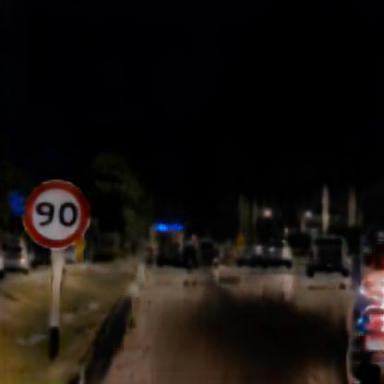Speed_limit_90: (24, 179, 85, 246)
